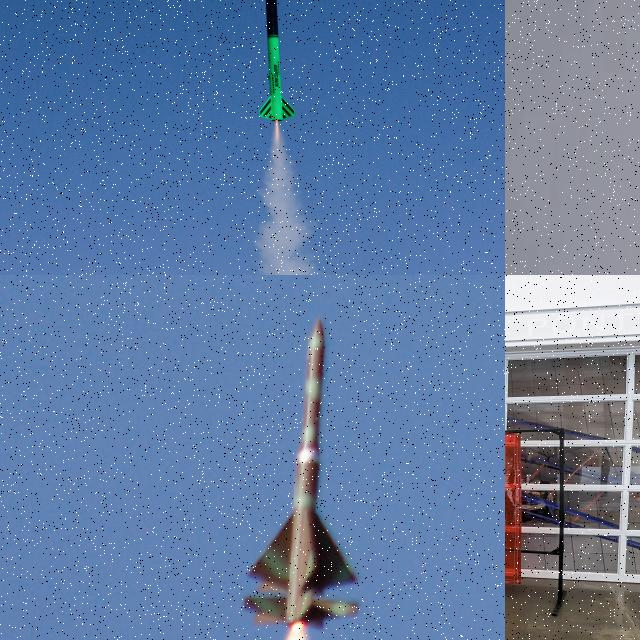Rocket: (242, 317, 362, 632), (256, 0, 297, 124)
